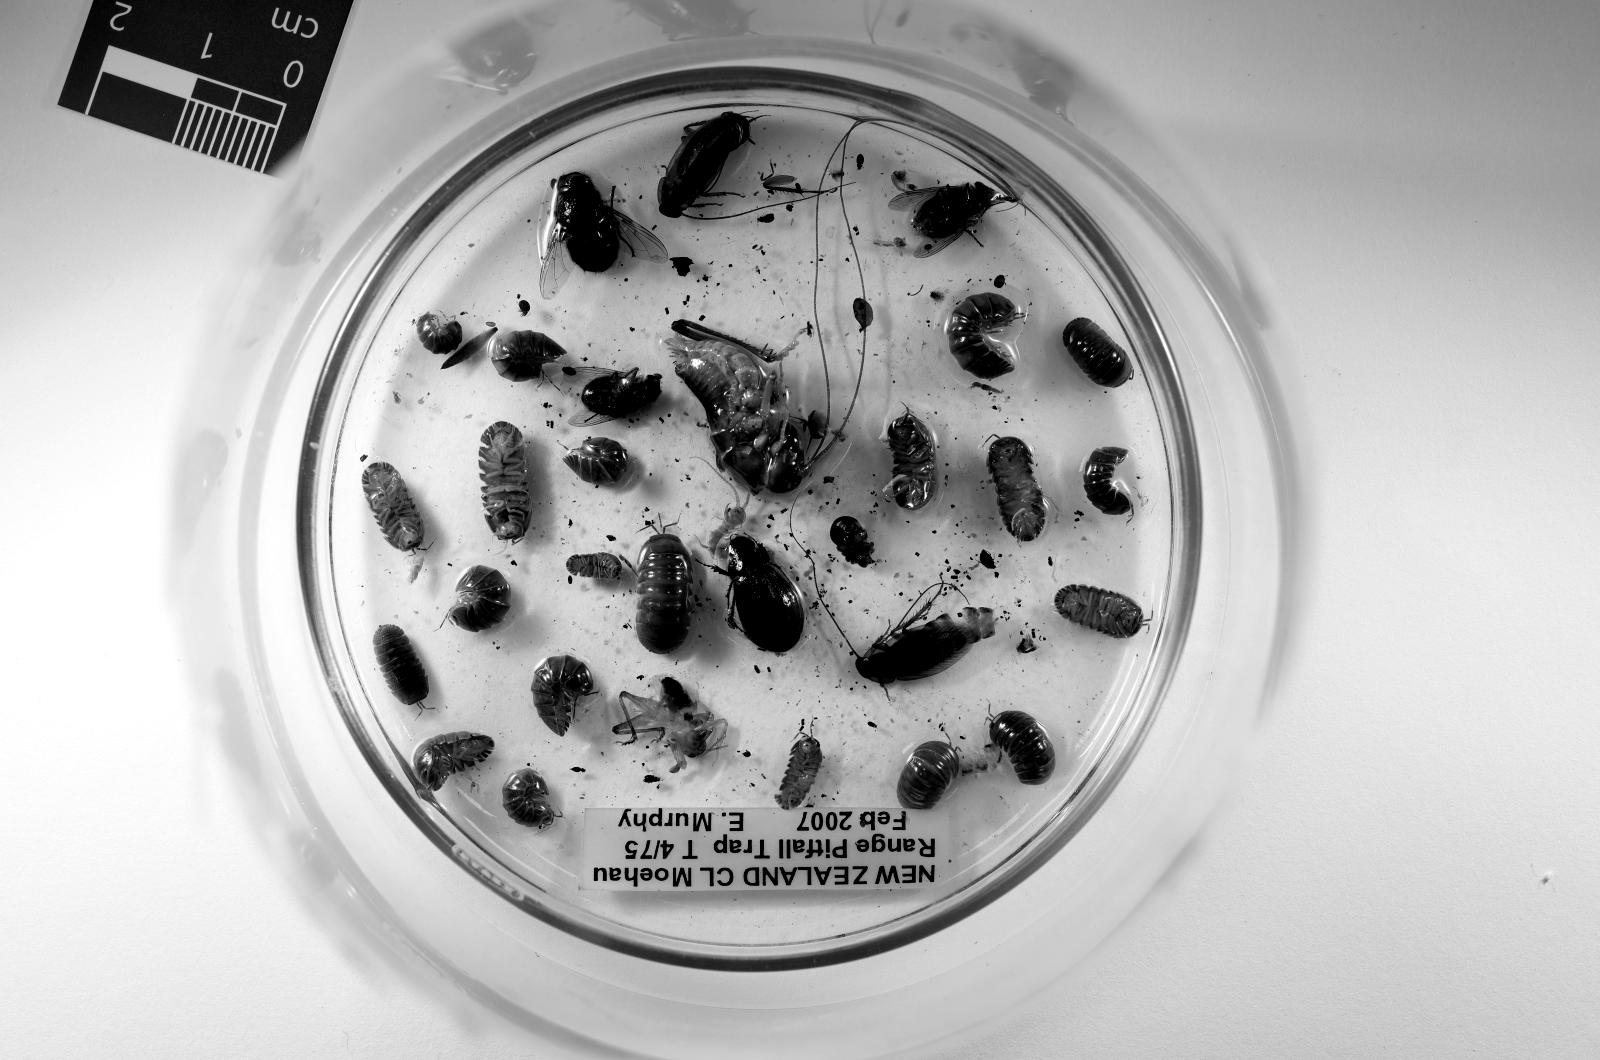acari: (519, 298, 531, 317)
blattodea: (856, 581, 997, 689), (656, 112, 753, 217)
coleoptera: (725, 537, 806, 652), (978, 550, 997, 568), (994, 273, 1006, 289), (856, 152, 866, 171), (644, 776, 659, 783), (869, 720, 878, 730), (572, 767, 584, 773)
diptera: (541, 171, 669, 298), (891, 183, 1012, 258), (562, 366, 662, 425)
isopoda: (634, 531, 694, 655), (944, 292, 1028, 379), (478, 422, 531, 543), (988, 438, 1047, 540), (362, 463, 425, 550), (531, 655, 594, 736), (1053, 584, 1144, 640), (888, 410, 938, 509), (1062, 317, 1131, 388), (412, 733, 494, 792), (991, 711, 1053, 786), (372, 624, 428, 705), (897, 742, 962, 811), (447, 565, 509, 634), (491, 332, 566, 382), (775, 736, 822, 811), (1084, 447, 1131, 516), (503, 770, 556, 829), (566, 438, 628, 484), (416, 314, 462, 354), (566, 553, 622, 578)
opiliones: (831, 516, 875, 568)
orthoptera: (666, 320, 828, 494), (612, 677, 728, 773)
